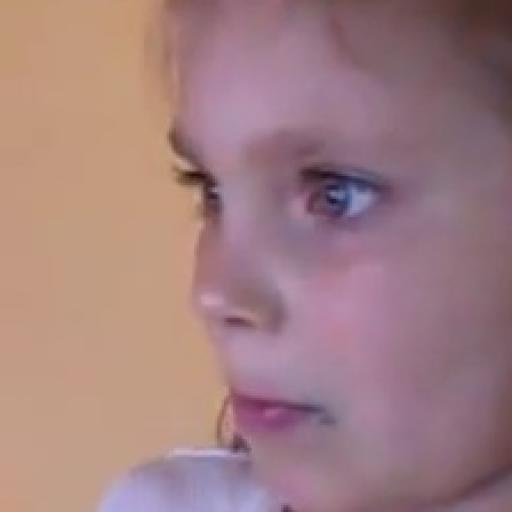Autism: (167, 5, 512, 512)
